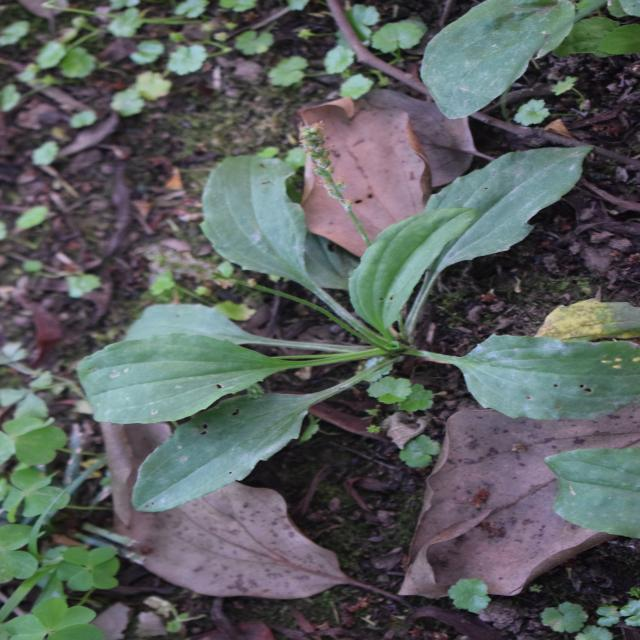plantain: (142, 74, 484, 588)
